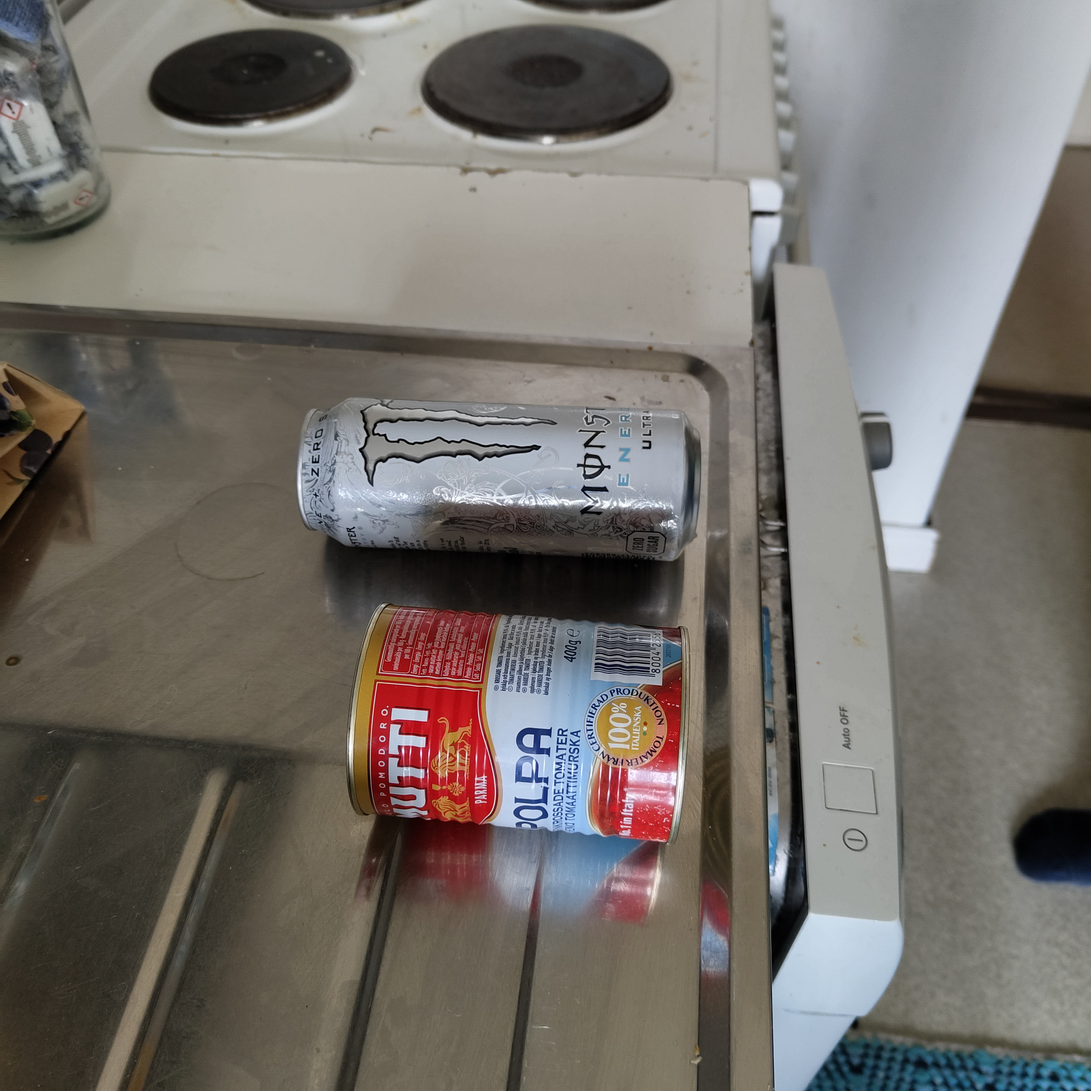Konservburk: (344, 601, 690, 848)
Pantburk: (298, 397, 702, 563)
